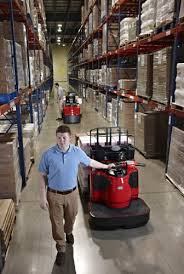Pallet Jack: (73, 123, 151, 232), (62, 92, 83, 126)
